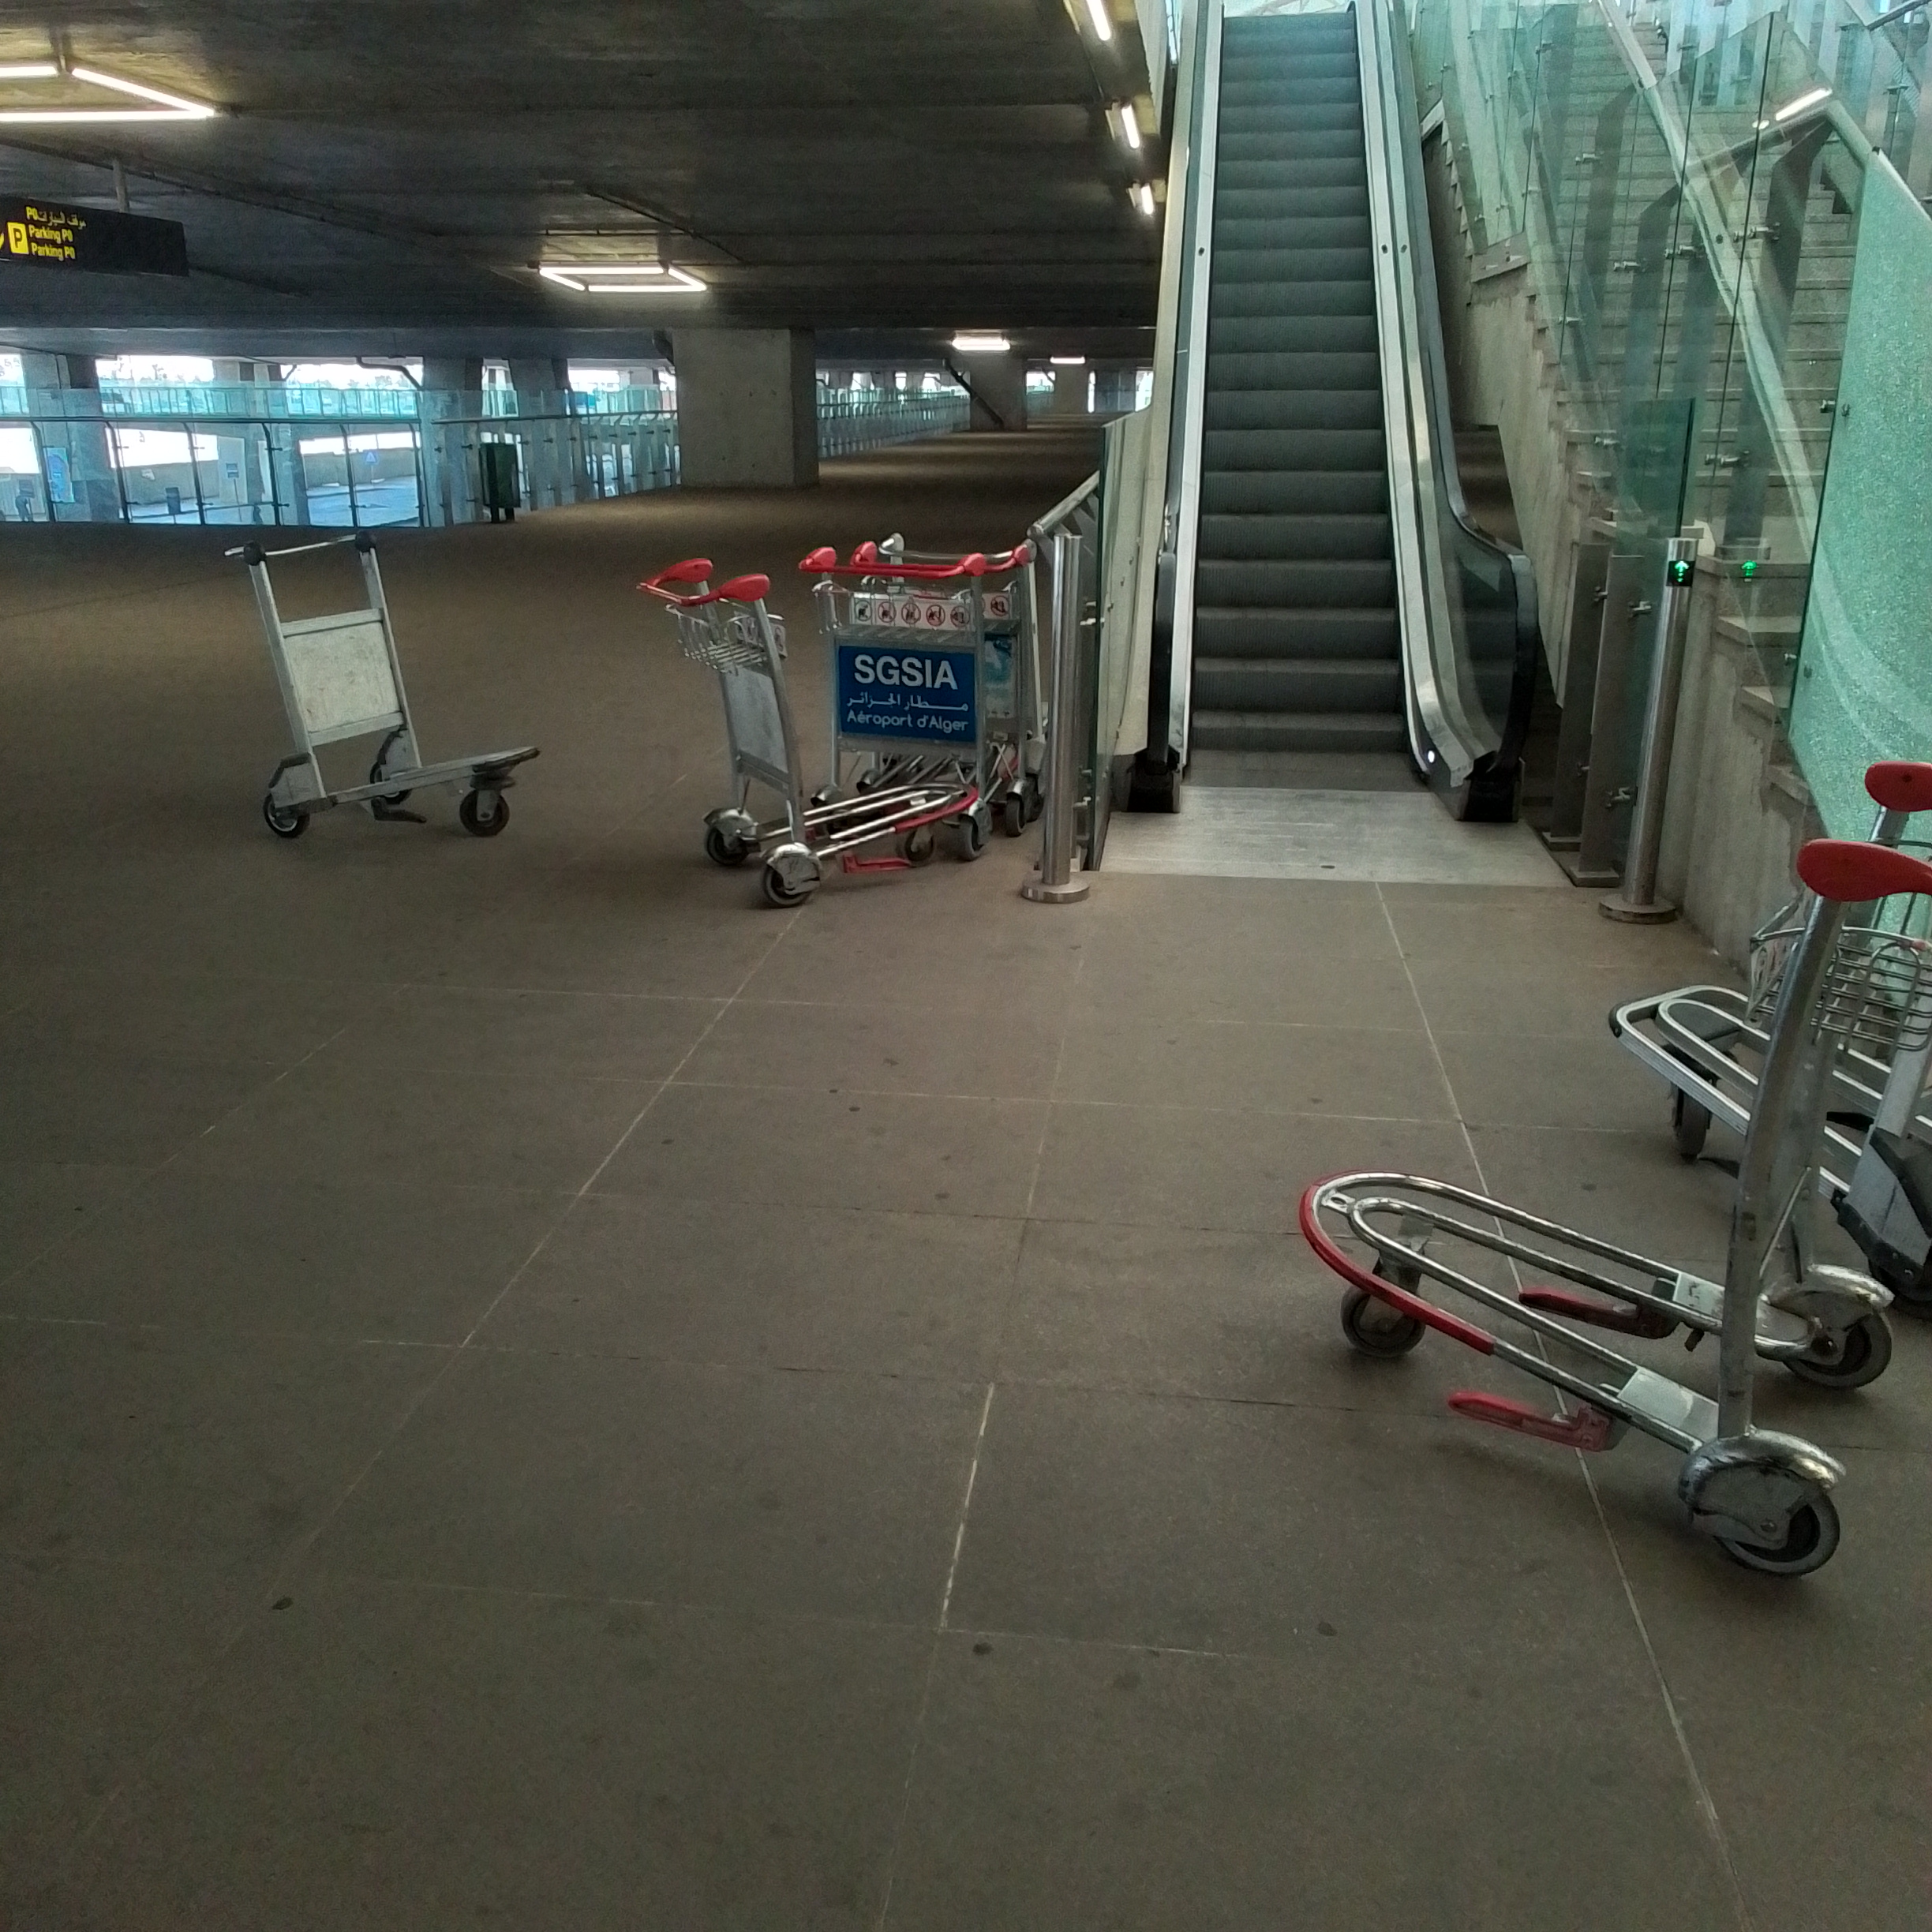airport-trolley: (1300, 740, 1928, 1617), (1608, 748, 1932, 1284), (640, 554, 1021, 886), (212, 527, 545, 839), (809, 540, 1046, 830)
